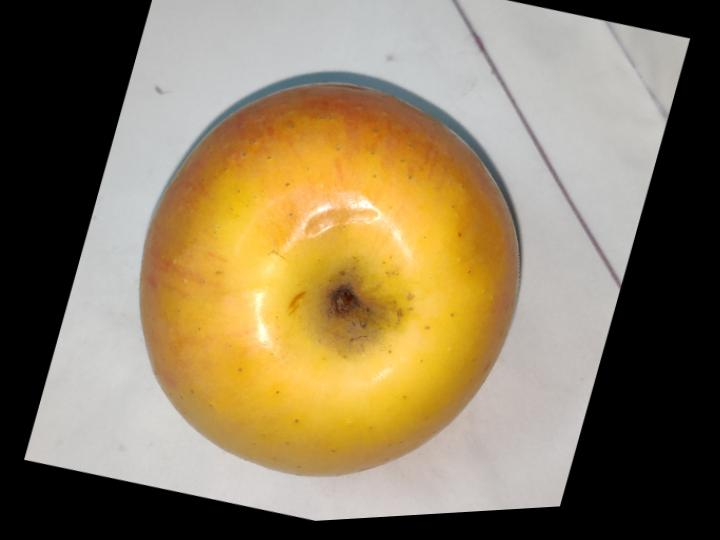apple: (139, 82, 516, 475)
